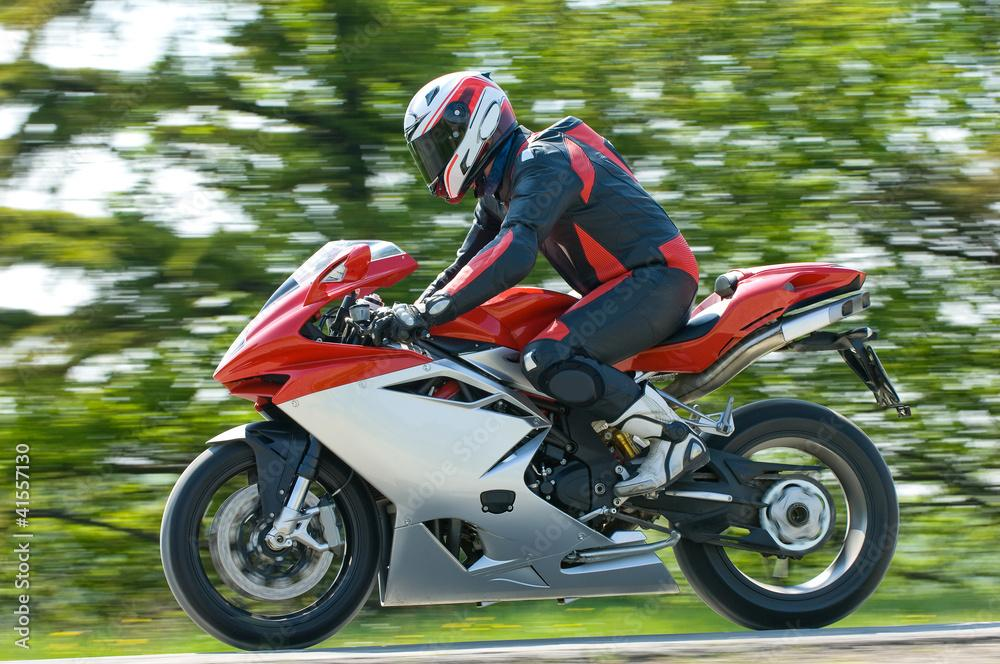helmet: (403, 69, 520, 206)
